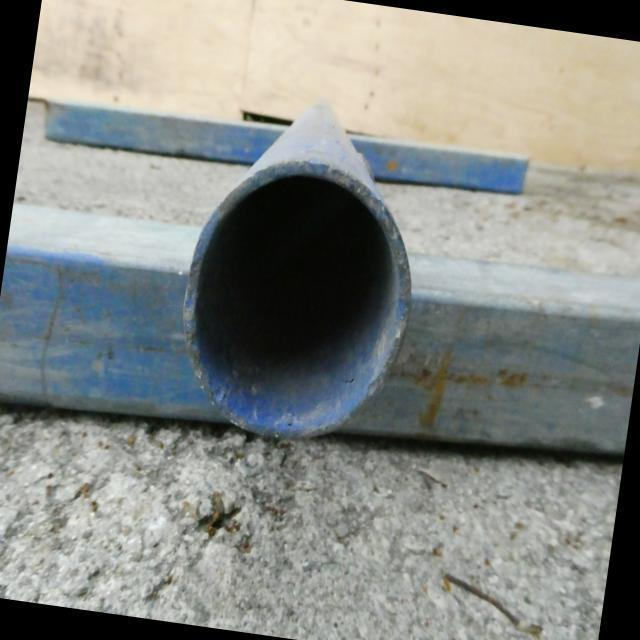pipe: (183, 161, 411, 441)
